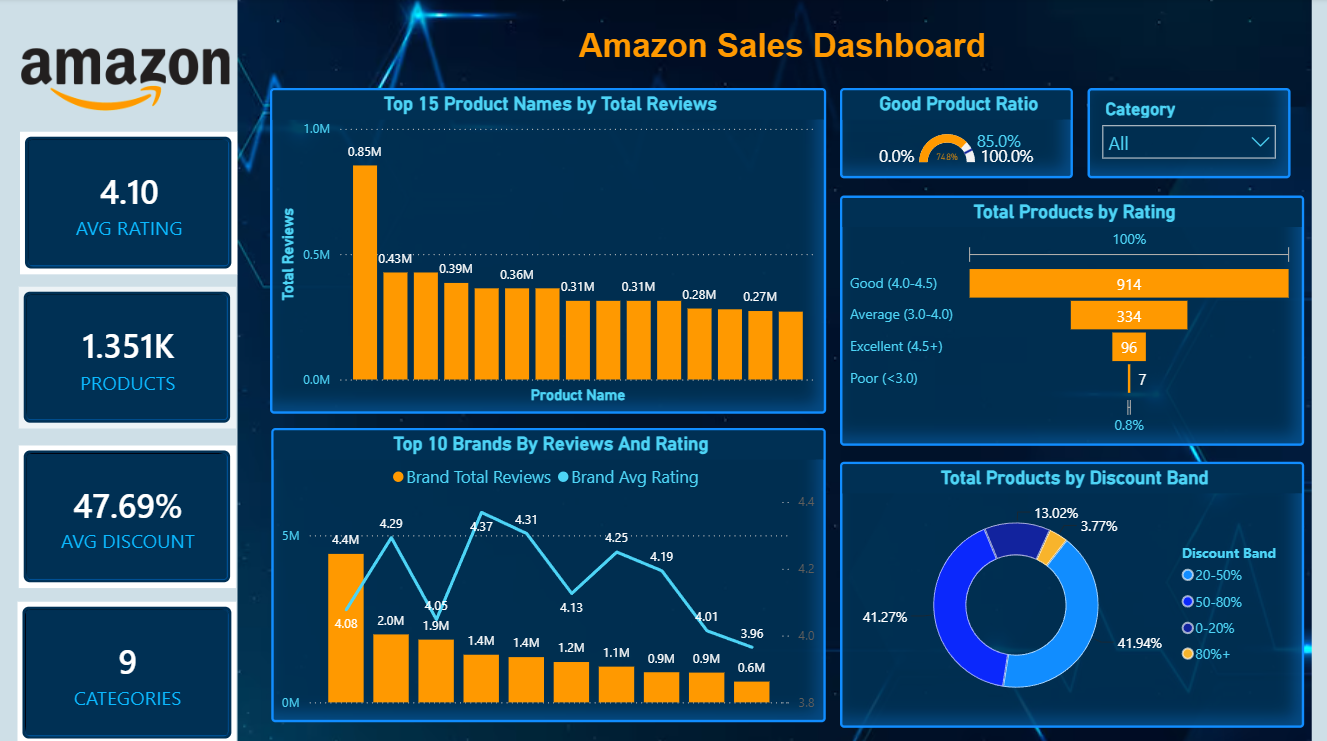

Layout of this report page (visuals, bound fields, positions):
{"tool":"powerbi","page":{"name":"Page 1","canvas":[1280,720],"ordinal":0},"visuals":[{"type":"image","box":[229.4,0,1037,720.1],"z":0},{"type":"image","box":[16.6,23.5,209.7,106.2],"z":1000},{"type":"cardVisual","fields":{"Data":["Count(amazon(1).product_id)"]},"box":[17.9,278.7,209.7,136.6],"z":2000},{"type":"cardVisual","fields":{"Data":["Avg(amazon(1).rating)"]},"box":[19.3,129.7,209.7,138],"z":3000},{"type":"cardVisual","fields":{"Data":["Avg(amazon(1).discount_percentage)"]},"box":[17.9,431.8,209.7,138],"z":4000},{"type":"cardVisual","fields":{"Data":["Count(amazon(1).Main Category)"]},"box":[16.7,583.2,211.1,137.5],"z":5000},{"type":"columnChart","title":"Top 15 Product Names by Total Reviews","fields":{"Category":["amazon(1).product_name"],"Y":["amazon(1).Total Reviews"]},"box":[260.7,86.9,536.7,314.6],"z":6000},{"type":"lineClusteredColumnComboChart","title":"Top 10 Brands By Reviews And Rating ","fields":{"Y2":["amazon(1).Brand Avg Rating"],"Category":["amazon(1).Brand"],"Y":["amazon(1).Brand Total Reviews"]},"box":[262.1,415.3,535.3,284.2],"z":7000},{"type":"donutChart","fields":{"Y":["amazon(1).Total Products"],"Category":["amazon(1).Discount Band"]},"box":[811.2,447,448.4,256.6],"z":8000},{"type":"slicer","fields":{"Values":["amazon(1).Main Category"]},"box":[1049.9,86.9,195.9,86.9],"z":9000},{"type":"gauge","title":"Good Product Ratio","fields":{"Y":["amazon(1).Good Rating %"]},"box":[811.2,86.9,224.9,86.9],"z":10000},{"type":"funnel","title":"Total Products by Rating","fields":{"Category":["amazon(1).Rating Tier"],"Y":["amazon(1).Total Products"]},"box":[811.2,190.4,448.4,241.4],"z":11000},{"type":"textbox","box":[280.1,23.5,950.6,63.5],"z":11001}]}

Visuals, with their boxes in screenshot pixels (x1, y1, x2, y2), scaled from the page's 1280x720 canvas onto the 1327x741 screenshot:
image: x1=238, y1=0, x2=1313, y2=740
image: x1=17, y1=24, x2=235, y2=133
cardVisual - Count(amazon(1).product_id): x1=19, y1=287, x2=236, y2=427
cardVisual - Avg(amazon(1).rating): x1=20, y1=133, x2=237, y2=276
cardVisual - Avg(amazon(1).discount_percentage): x1=19, y1=444, x2=236, y2=586
cardVisual - Count(amazon(1).Main Category): x1=17, y1=600, x2=236, y2=740
"Top 15 Product Names by Total Reviews" columnChart: x1=270, y1=89, x2=827, y2=413
"Top 10 Brands By Reviews And Rating " lineClusteredColumnComboChart: x1=272, y1=427, x2=827, y2=720
donutChart - amazon(1).Total Products x amazon(1).Discount Band: x1=841, y1=460, x2=1306, y2=724
slicer - amazon(1).Main Category: x1=1088, y1=89, x2=1292, y2=179
"Good Product Ratio" gauge: x1=841, y1=89, x2=1074, y2=179
"Total Products by Rating" funnel: x1=841, y1=196, x2=1306, y2=444
textbox: x1=290, y1=24, x2=1276, y2=90
